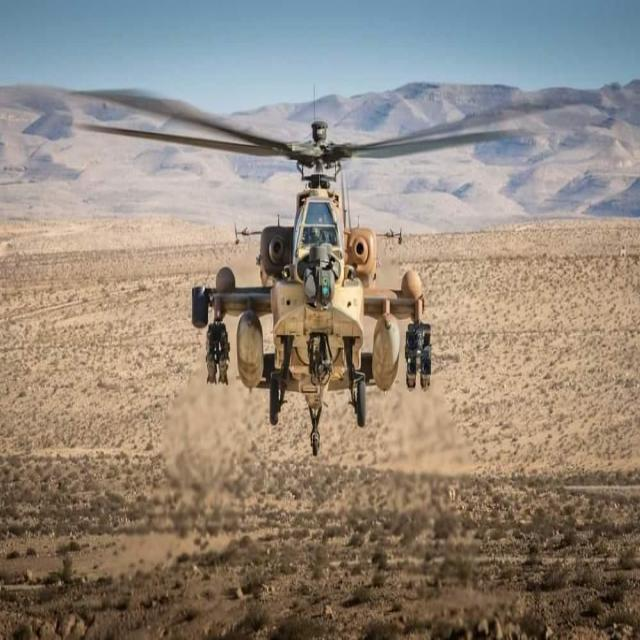MIL_HELO: (64, 65, 568, 486)
